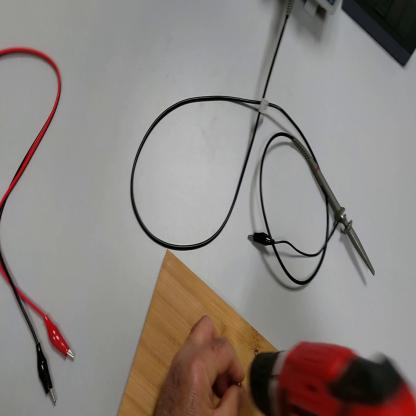electric screwdriver: (244, 341, 416, 416)
hand: (158, 321, 243, 414)
oscilloscope: (302, 3, 342, 24)
oscilloscope probe tip: (291, 137, 377, 278)
working area: (119, 250, 279, 416)
